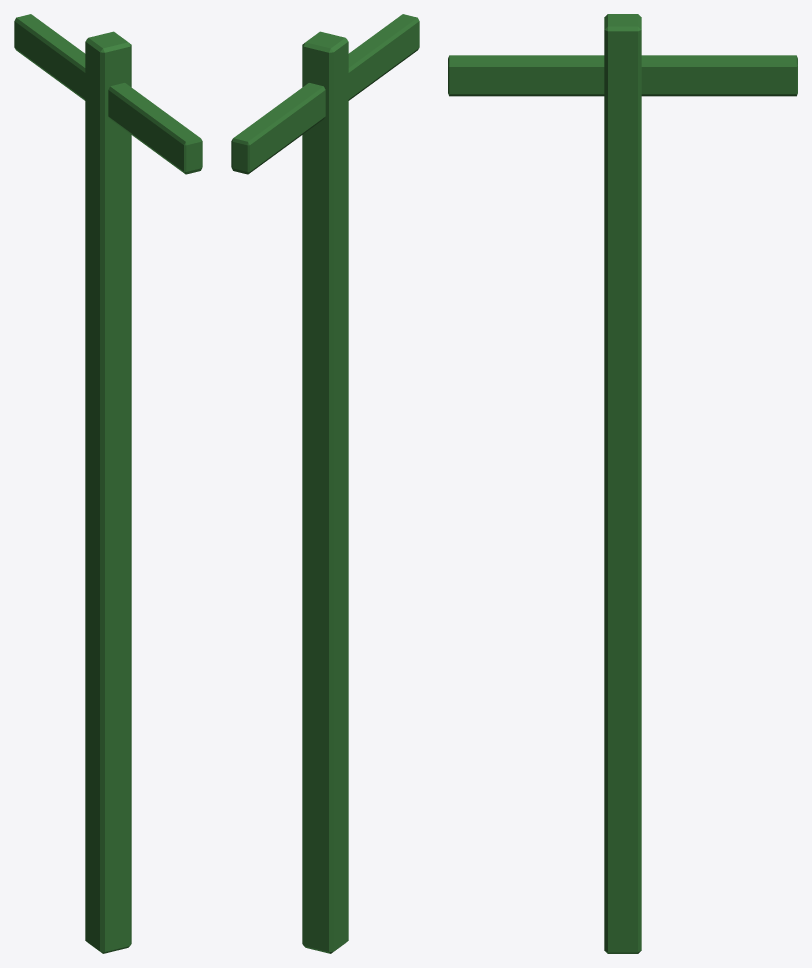
The model's file is Textured Demolished Flag Pole.fbx.
3 renders of one model, left to right at view 1: azimuth 30°, elevation 25°; view 2: azimuth 150°, elevation 25°; view 3: azimuth 270°, elevation 25°, orthographic. The views are drawn at different scales.
Parts seen in each view (by area): view 1: Flag_1_Base; view 2: Flag_1_Base; view 3: Flag_1_Base.
Boxes of the visible parts, left/top/right/bottom form: Flag_1_Base: left=14, top=14, right=202, bottom=953; Flag_1_Base: left=231, top=14, right=419, bottom=953; Flag_1_Base: left=448, top=14, right=797, bottom=953.
Bounding box in the file's own units: 0.1498 × 4.13 × 1.41.
